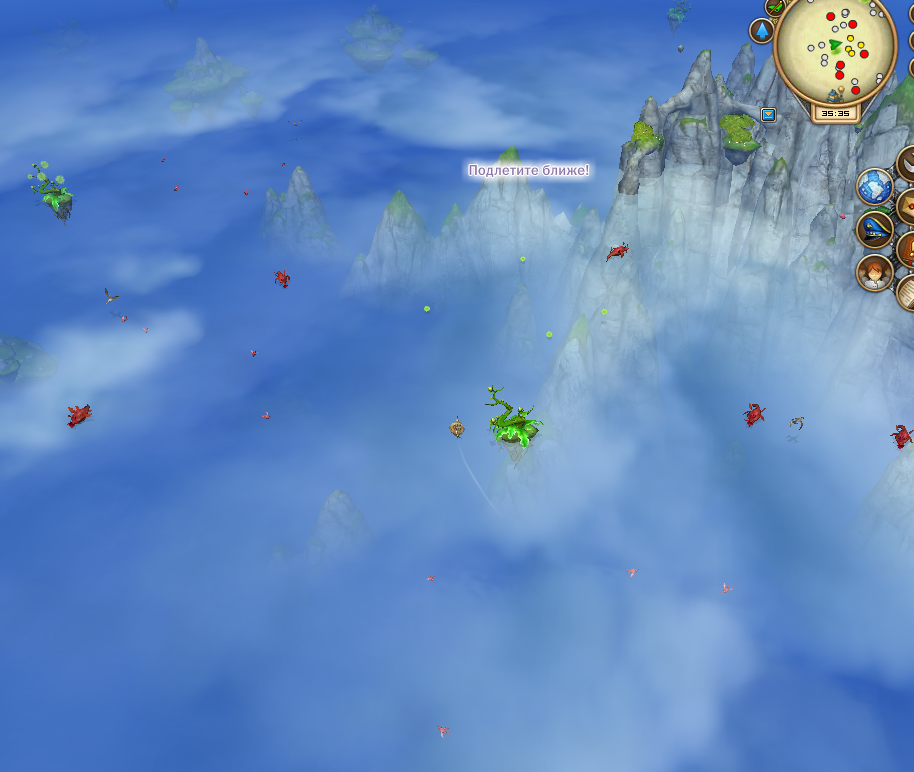dandelion-empty: (485, 378, 546, 456)
dandelion-full: (21, 155, 79, 221)
fluff: (543, 323, 555, 341), (418, 302, 432, 316), (601, 306, 610, 318), (519, 253, 527, 264)
